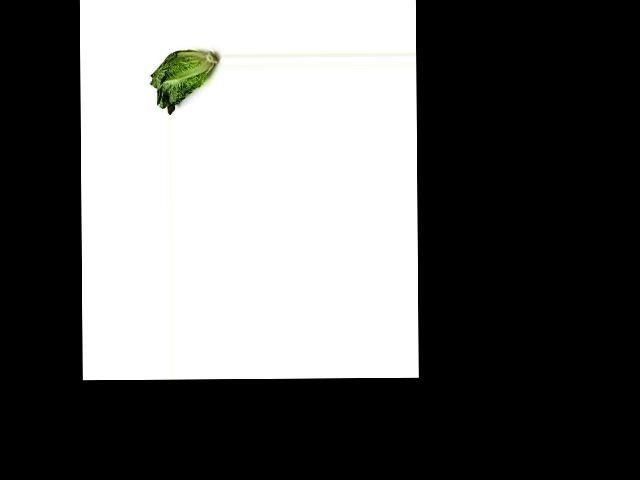lettuce: (147, 47, 216, 114)
